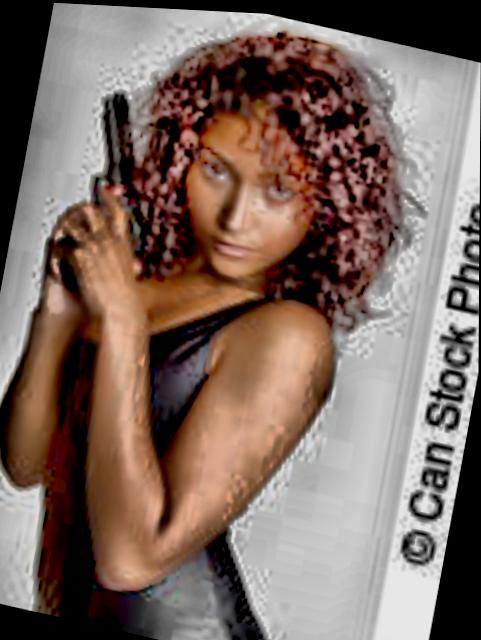pistol: (41, 75, 161, 306)
